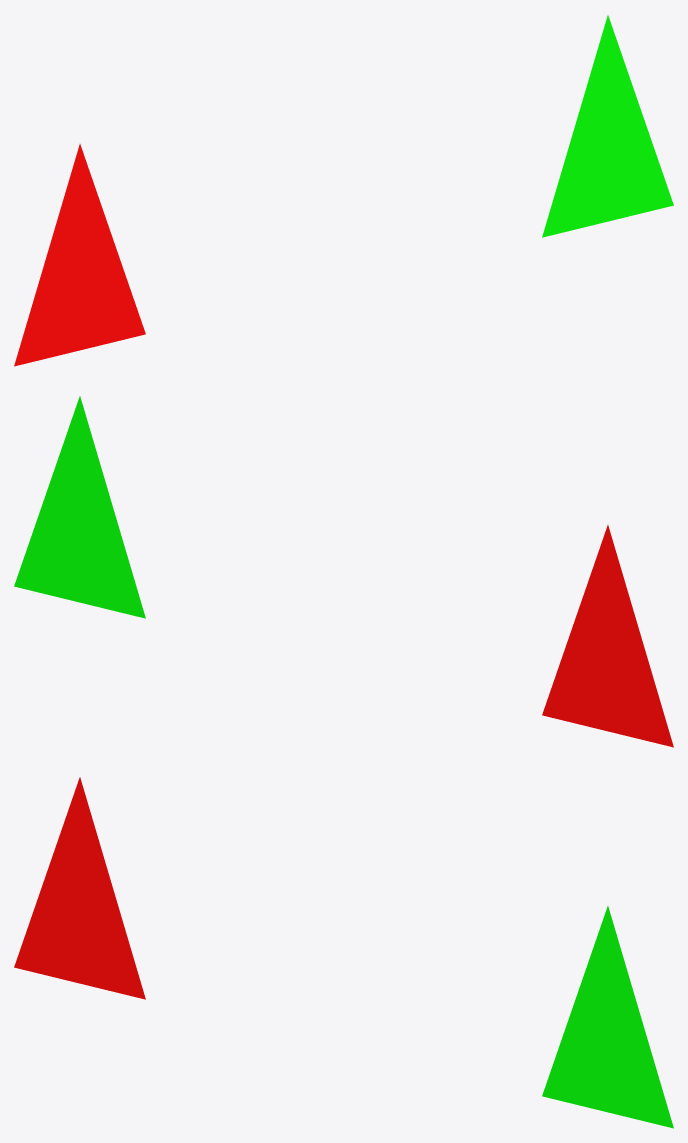
The model's file is materials.glb.
3 renders of one model, top to bottom at view 1: azimuth 30°, elevation 25°; view 2: azimuth 150°, elevation 25°; view 3: azimuth 330°, elevation 25°, orthographic.
Visible parts, largest first — view 1: pair; view 2: pair; view 3: pair.
Boxes of the visible parts, left/top/right/bottom form: pair: left=14, top=15, right=673, bottom=366; pair: left=14, top=396, right=673, bottom=747; pair: left=14, top=777, right=673, bottom=1128.
Bounding box in the file's own units: 1 × 0.3 × 0.
